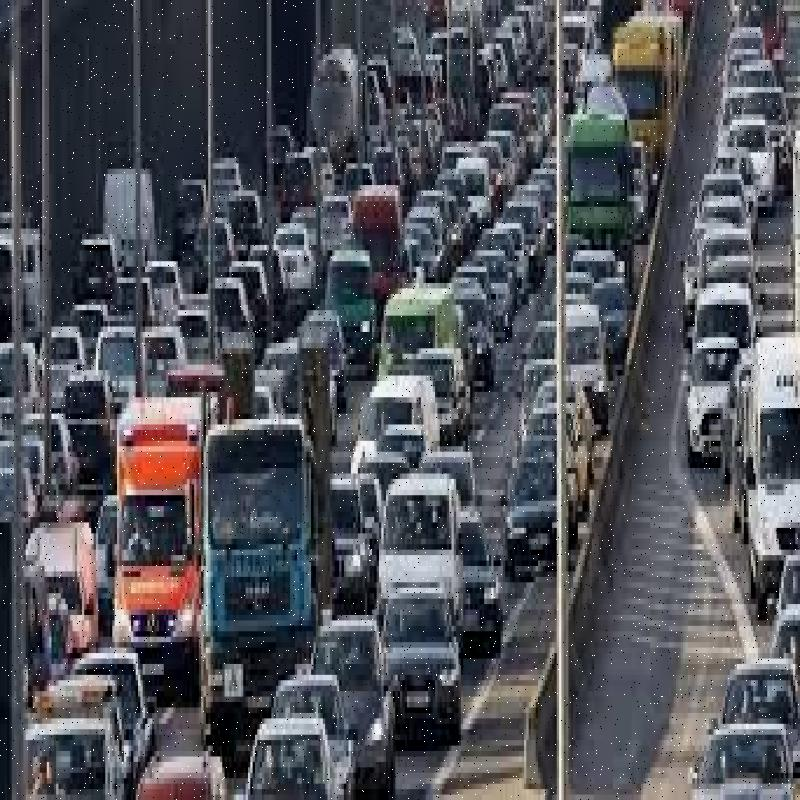car: (378, 571, 471, 762), (305, 615, 394, 786), (500, 428, 584, 590)
